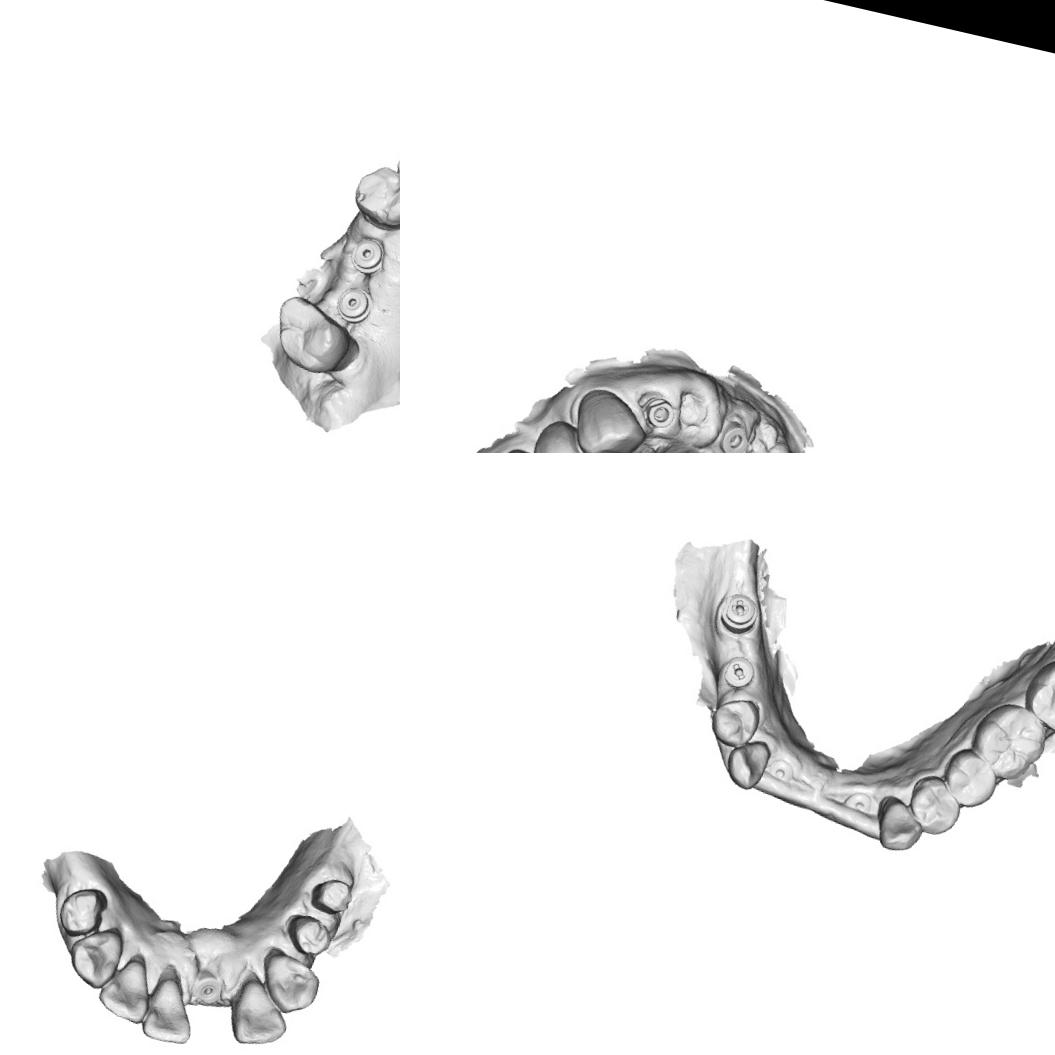canine: (566, 383, 656, 453), (258, 946, 329, 1020), (64, 924, 126, 994), (869, 790, 930, 856), (721, 734, 773, 793)
crown: (52, 878, 112, 942), (305, 868, 358, 922), (283, 910, 338, 961)
implant: (345, 233, 391, 280), (330, 281, 376, 327), (638, 392, 680, 432), (714, 418, 755, 453), (190, 970, 227, 1006), (840, 786, 876, 820), (766, 754, 799, 787)
implant_minus: (718, 652, 758, 694)
implant_plus: (714, 587, 762, 640)
incisor: (225, 972, 296, 1054), (140, 962, 204, 1050), (98, 956, 156, 1027)
molar: (266, 292, 366, 383), (964, 696, 1054, 788), (1017, 649, 1055, 741)
premolar: (902, 769, 967, 841), (938, 745, 1004, 814), (346, 159, 400, 237), (705, 690, 765, 753), (524, 412, 613, 453)
